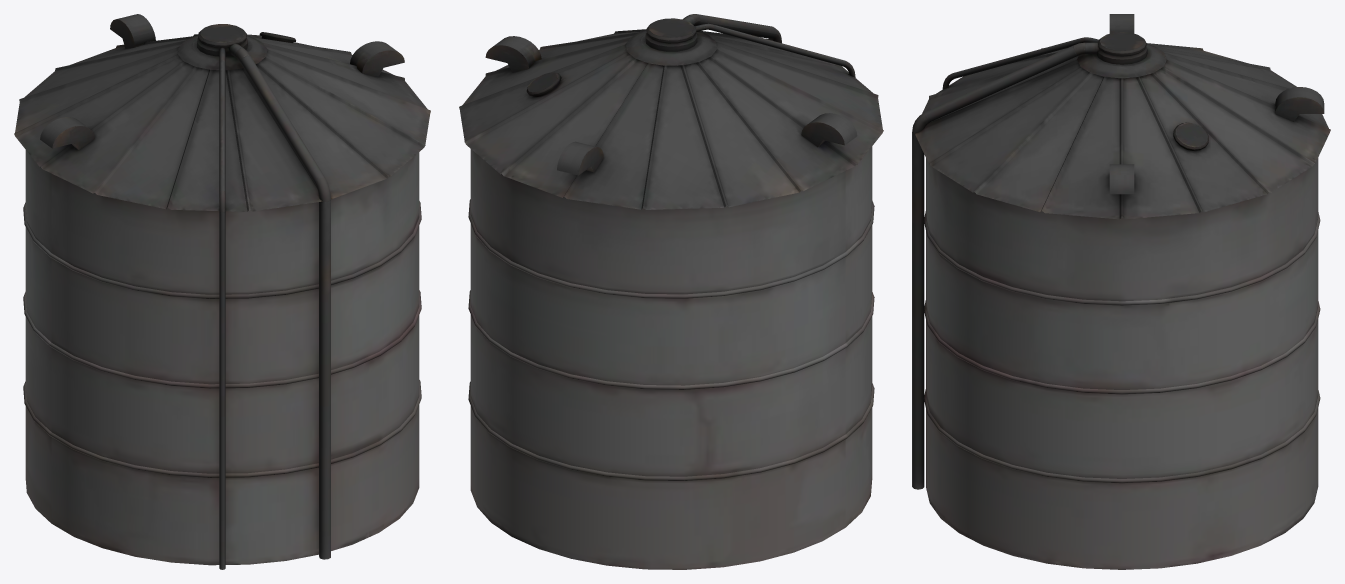
3 renders of one model, left to right at view 1: azimuth 30°, elevation 25°; view 2: azimuth 150°, elevation 25°; view 3: azimuth 270°, elevation 25°, orthographic. The views are drawn at different scales.
Visible parts, largest first — view 1: body0_model0_lod0_mesh0; view 2: body0_model0_lod0_mesh0; view 3: body0_model0_lod0_mesh0.
Boxes of the visible parts, x1,y1,x2,y2 form: body0_model0_lod0_mesh0: (14,14,430,569); body0_model0_lod0_mesh0: (459,14,883,569); body0_model0_lod0_mesh0: (912,14,1330,569).
Bounding box in the file's own units: 545 × 642 × 547.
Materials: 1 (1 with a texture image).
